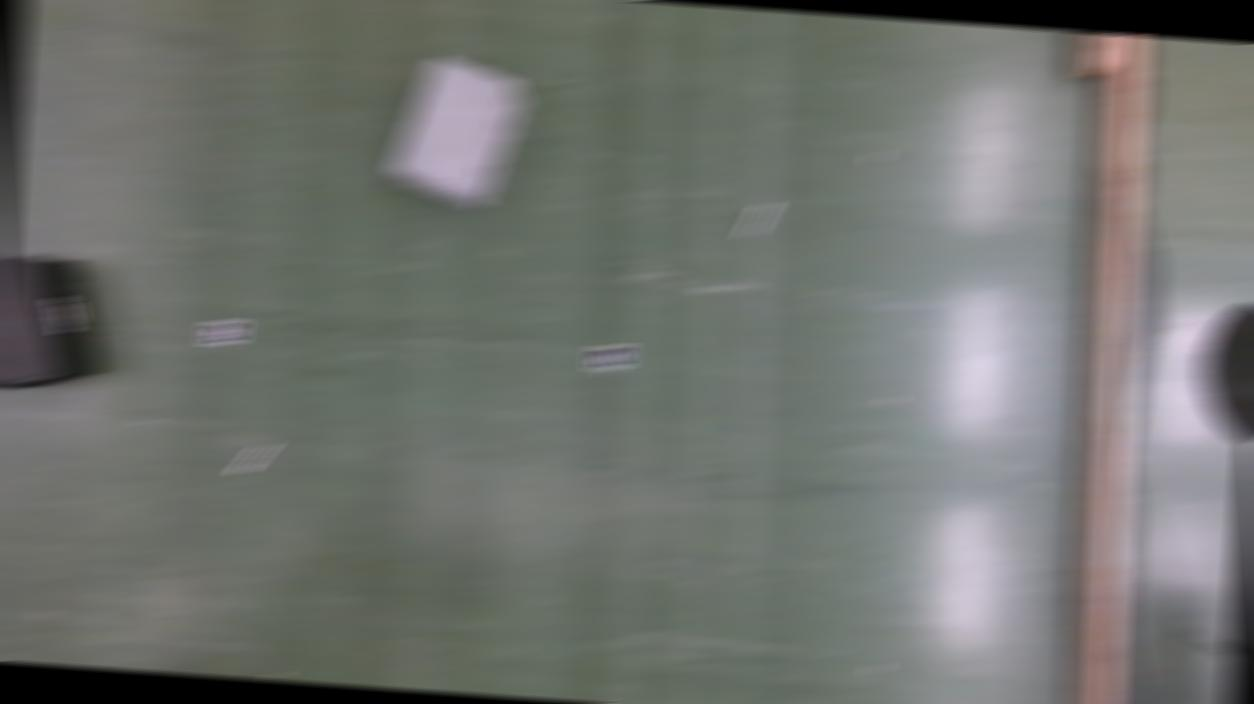probes: (238, 440, 274, 476), (742, 203, 772, 241)
rako: (386, 55, 528, 213), (0, 252, 111, 398)
